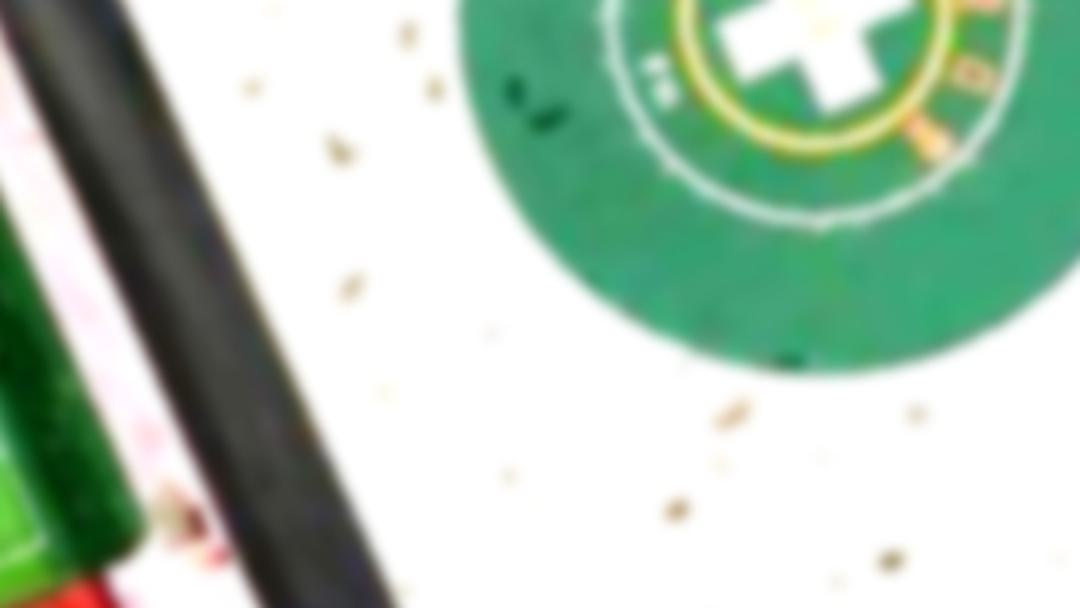Apron: (661, 4, 963, 158)
